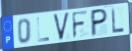0: (16, 18, 32, 45)
F: (71, 9, 90, 40)
L: (110, 7, 125, 35), (36, 16, 51, 43)
P: (90, 7, 109, 38)
V: (52, 11, 71, 42)
